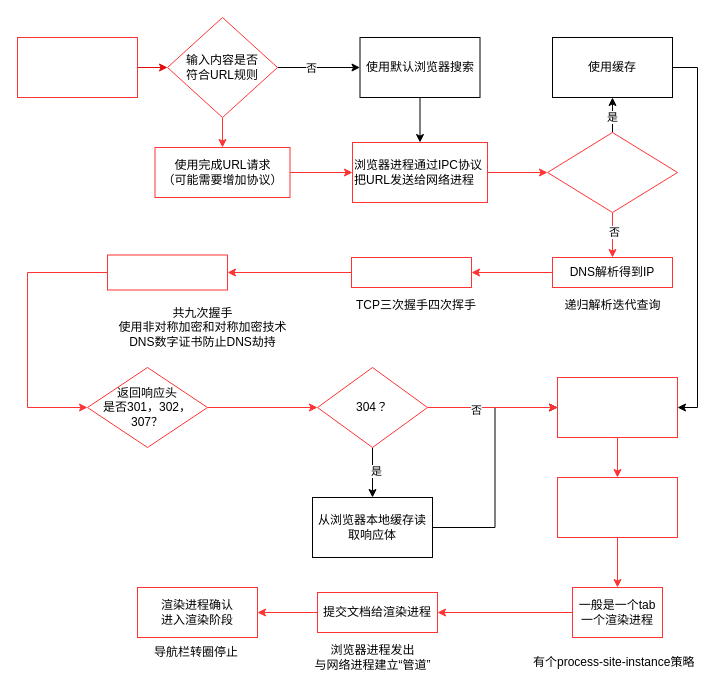
The diagram is 725 pixels wide and 695 high, and some of its shapes have lost their labels. Each missing label, with the box of its shape:
回到浏览器进程 准备渲染进程: (556, 476, 678, 538)
如果是HTTPS 再建立TCL连接: (106, 254, 228, 290)
建立TCP连接: (350, 256, 472, 288)
用户输入: (16, 36, 138, 98)
网络进程查找 本地缓存是否存在: (546, 132, 678, 212)
返回响应体: (556, 376, 678, 438)
